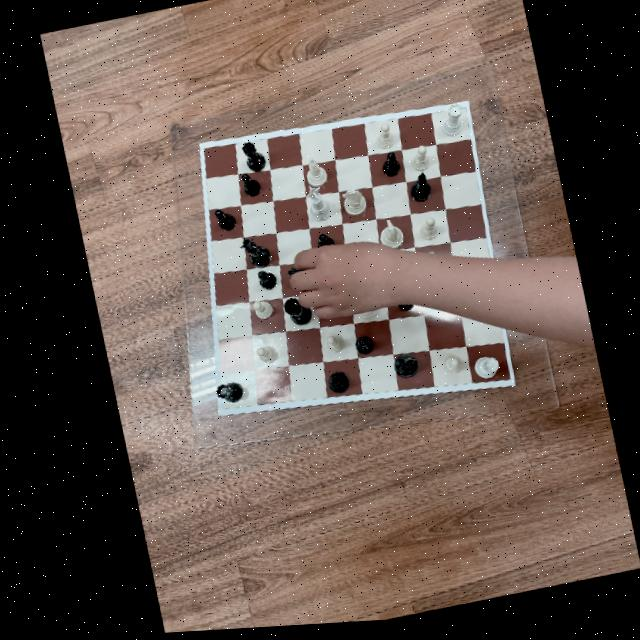chessboard-corner: (503, 387, 517, 401), (208, 413, 221, 425), (459, 102, 471, 113), (193, 140, 202, 151)
